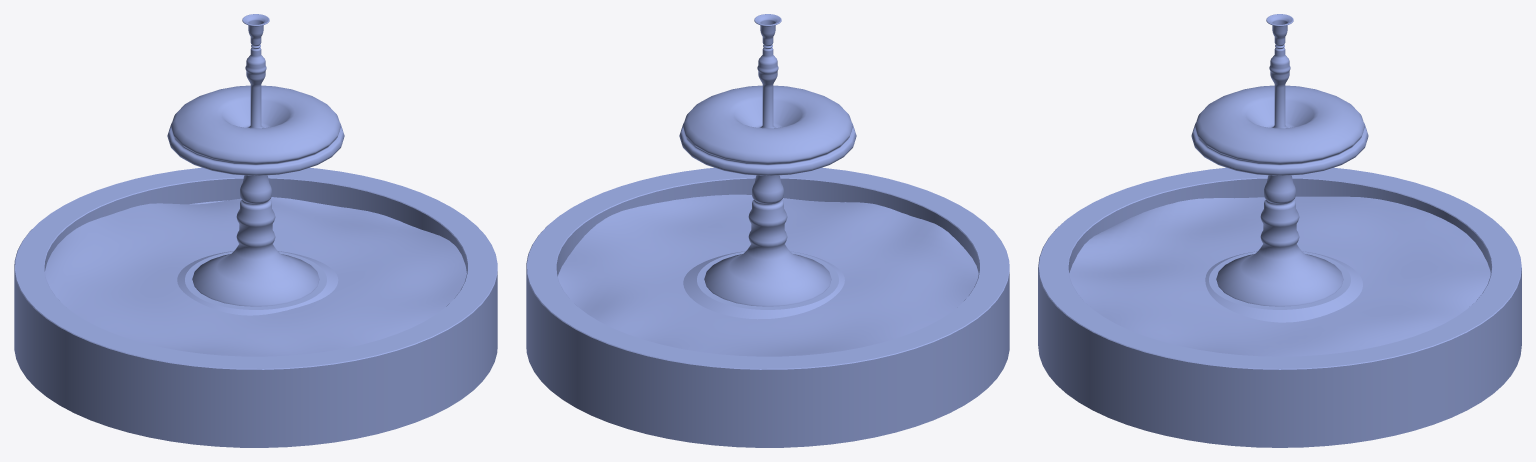
Rendered from Fuente_UV.fbx.
3 views of the same model, side by side, from view 1: azimuth 30°, elevation 25°; view 2: azimuth 150°, elevation 25°; view 3: azimuth 270°, elevation 25° (orthographic).
Parts seen in each view (by area): view 1: Fuente apply; view 2: Fuente apply; view 3: Fuente apply.
Part boxes in pixels (x1,y1,x2,y2): Fuente apply: [14, 14, 497, 447]; Fuente apply: [526, 14, 1009, 447]; Fuente apply: [1038, 14, 1521, 447].
Bounding box in the file's own units: 378 × 281 × 378.
